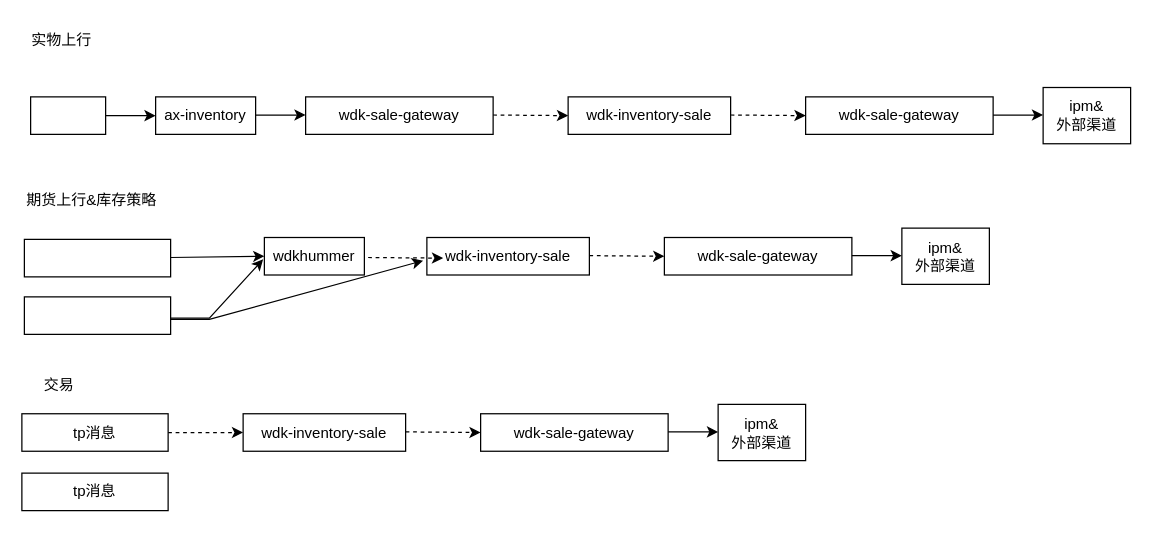
Some shapes in this 1153 by 533 pixel diagram are drawn without their labels. Here are the shapes that lost their labels. From the top down, the centre of each, then its label:
At point (67, 115): "top".
At point (97, 257): "wdk-inventory-admin".
At point (97, 315): "行业端面".
